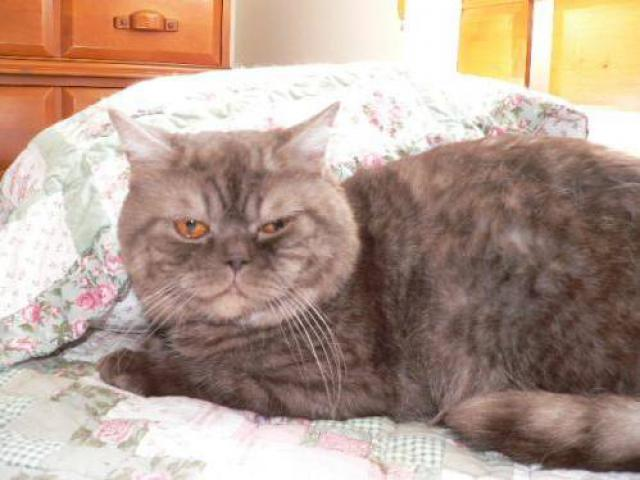cat: (98, 108, 626, 449)
